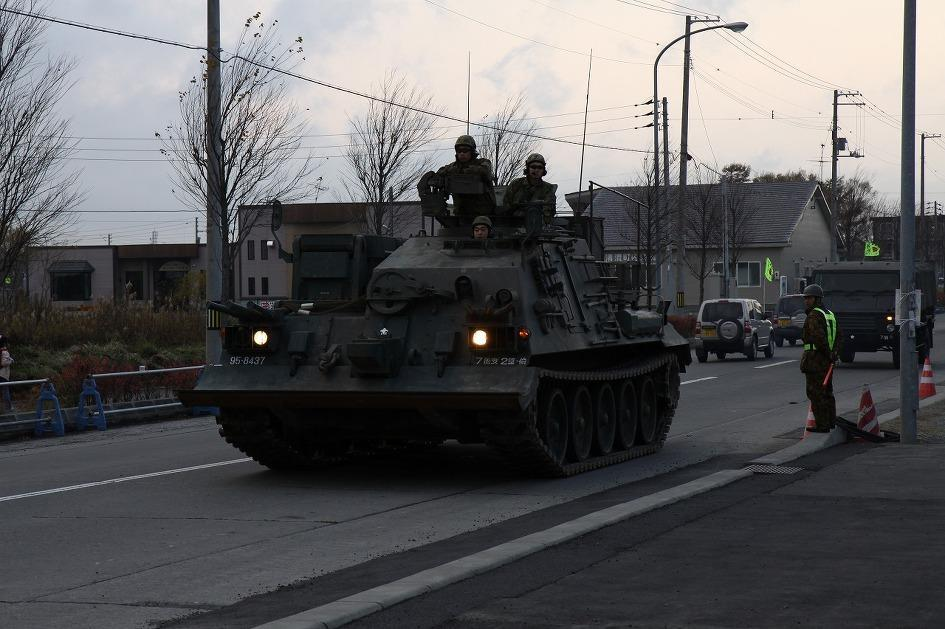MIL_IFV: (182, 168, 693, 488)
